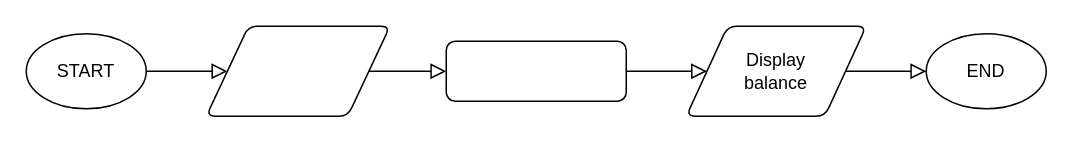
Image size: 1073x143. Some labels were removed from this diagram. Each missing label, with the box of its shape:
Request view balance: (205, 25, 390, 116)
View balance: (445, 40, 626, 101)
